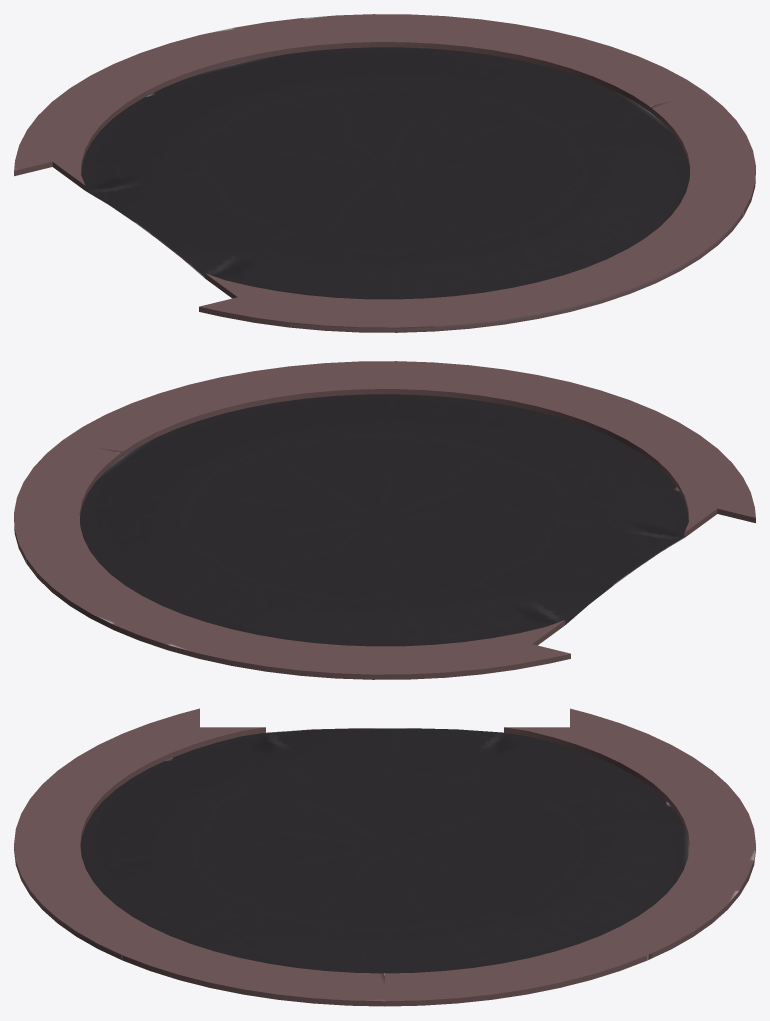
Rendered from road_circle_LOD0.fbx.
The picture shows the model from 3 angles, top to bottom: view 1: azimuth 30°, elevation 25°; view 2: azimuth 150°, elevation 25°; view 3: azimuth 270°, elevation 25°; orthographic projection.
Parts seen in each view (by area): view 1: road_circle_LOD0; view 2: road_circle_LOD0; view 3: road_circle_LOD0.
Boxes of the visible parts, bbox=[...] form: road_circle_LOD0: bbox=[14, 14, 755, 332]; road_circle_LOD0: bbox=[14, 361, 755, 679]; road_circle_LOD0: bbox=[14, 708, 755, 1006].
Bounding box in the file's own units: 2244 × 18.87 × 2404.
